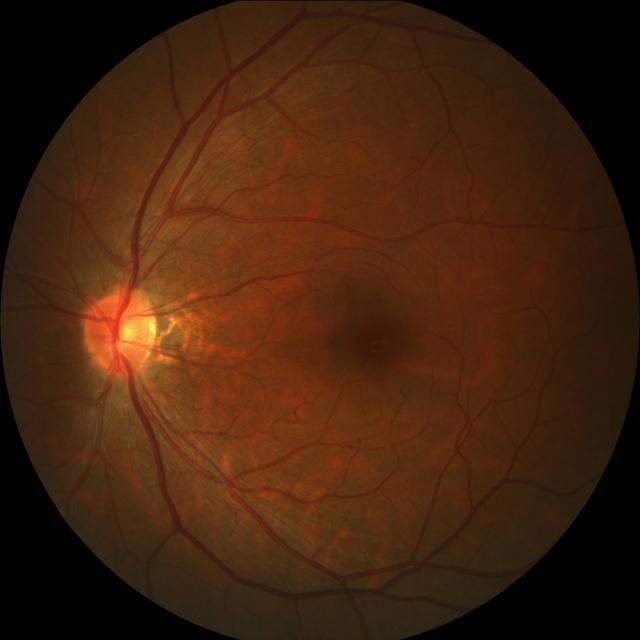OC: (113, 321, 136, 345)
OD: (84, 287, 160, 373)
